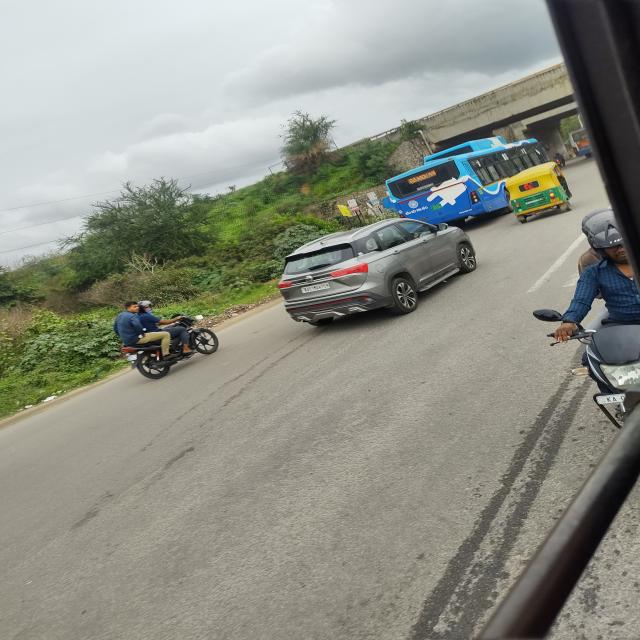bus: (377, 126, 558, 227), (563, 127, 597, 158)
display: (401, 170, 444, 183)
